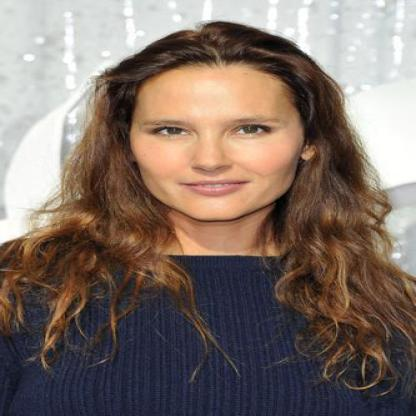long-hair: (10, 221, 401, 274)
